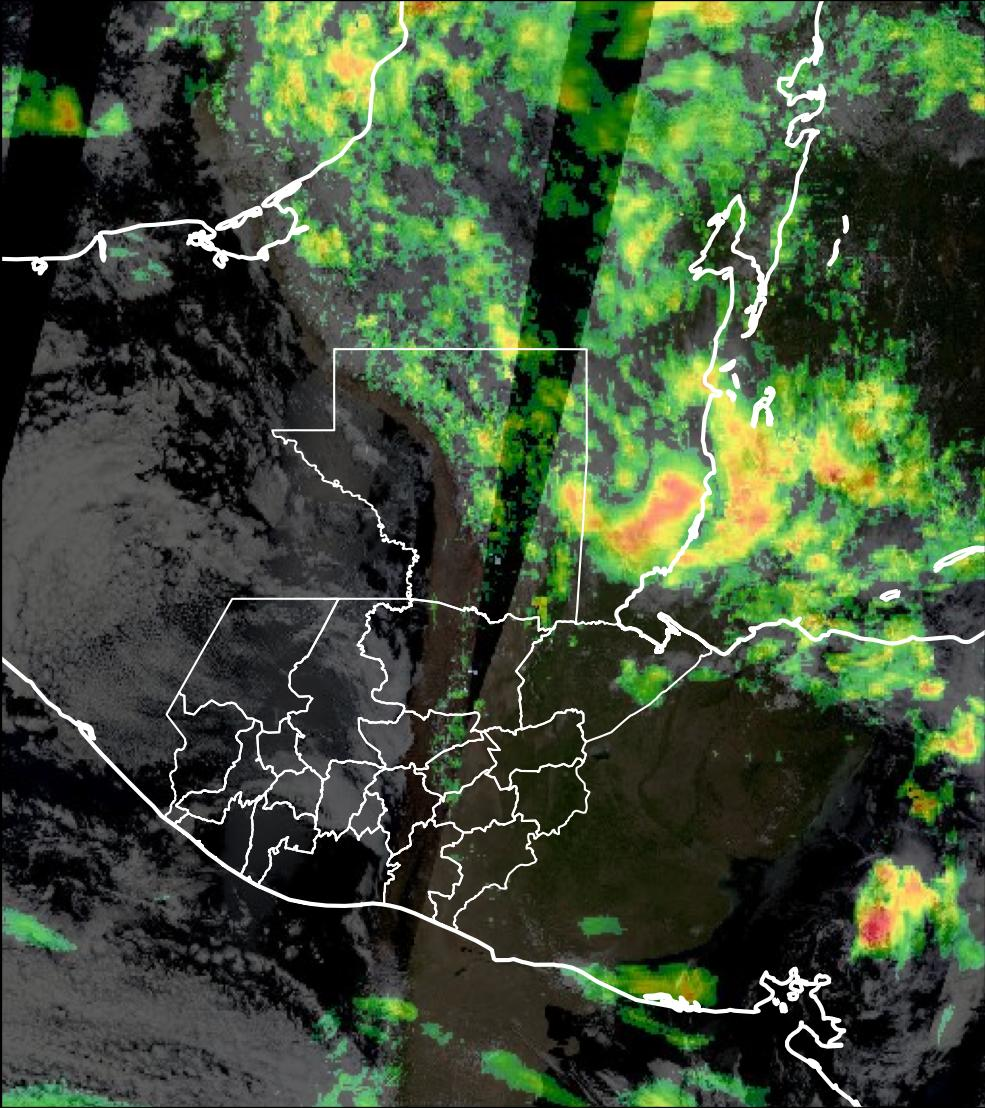precipitacion: (589, 472, 696, 564), (853, 861, 941, 957)
